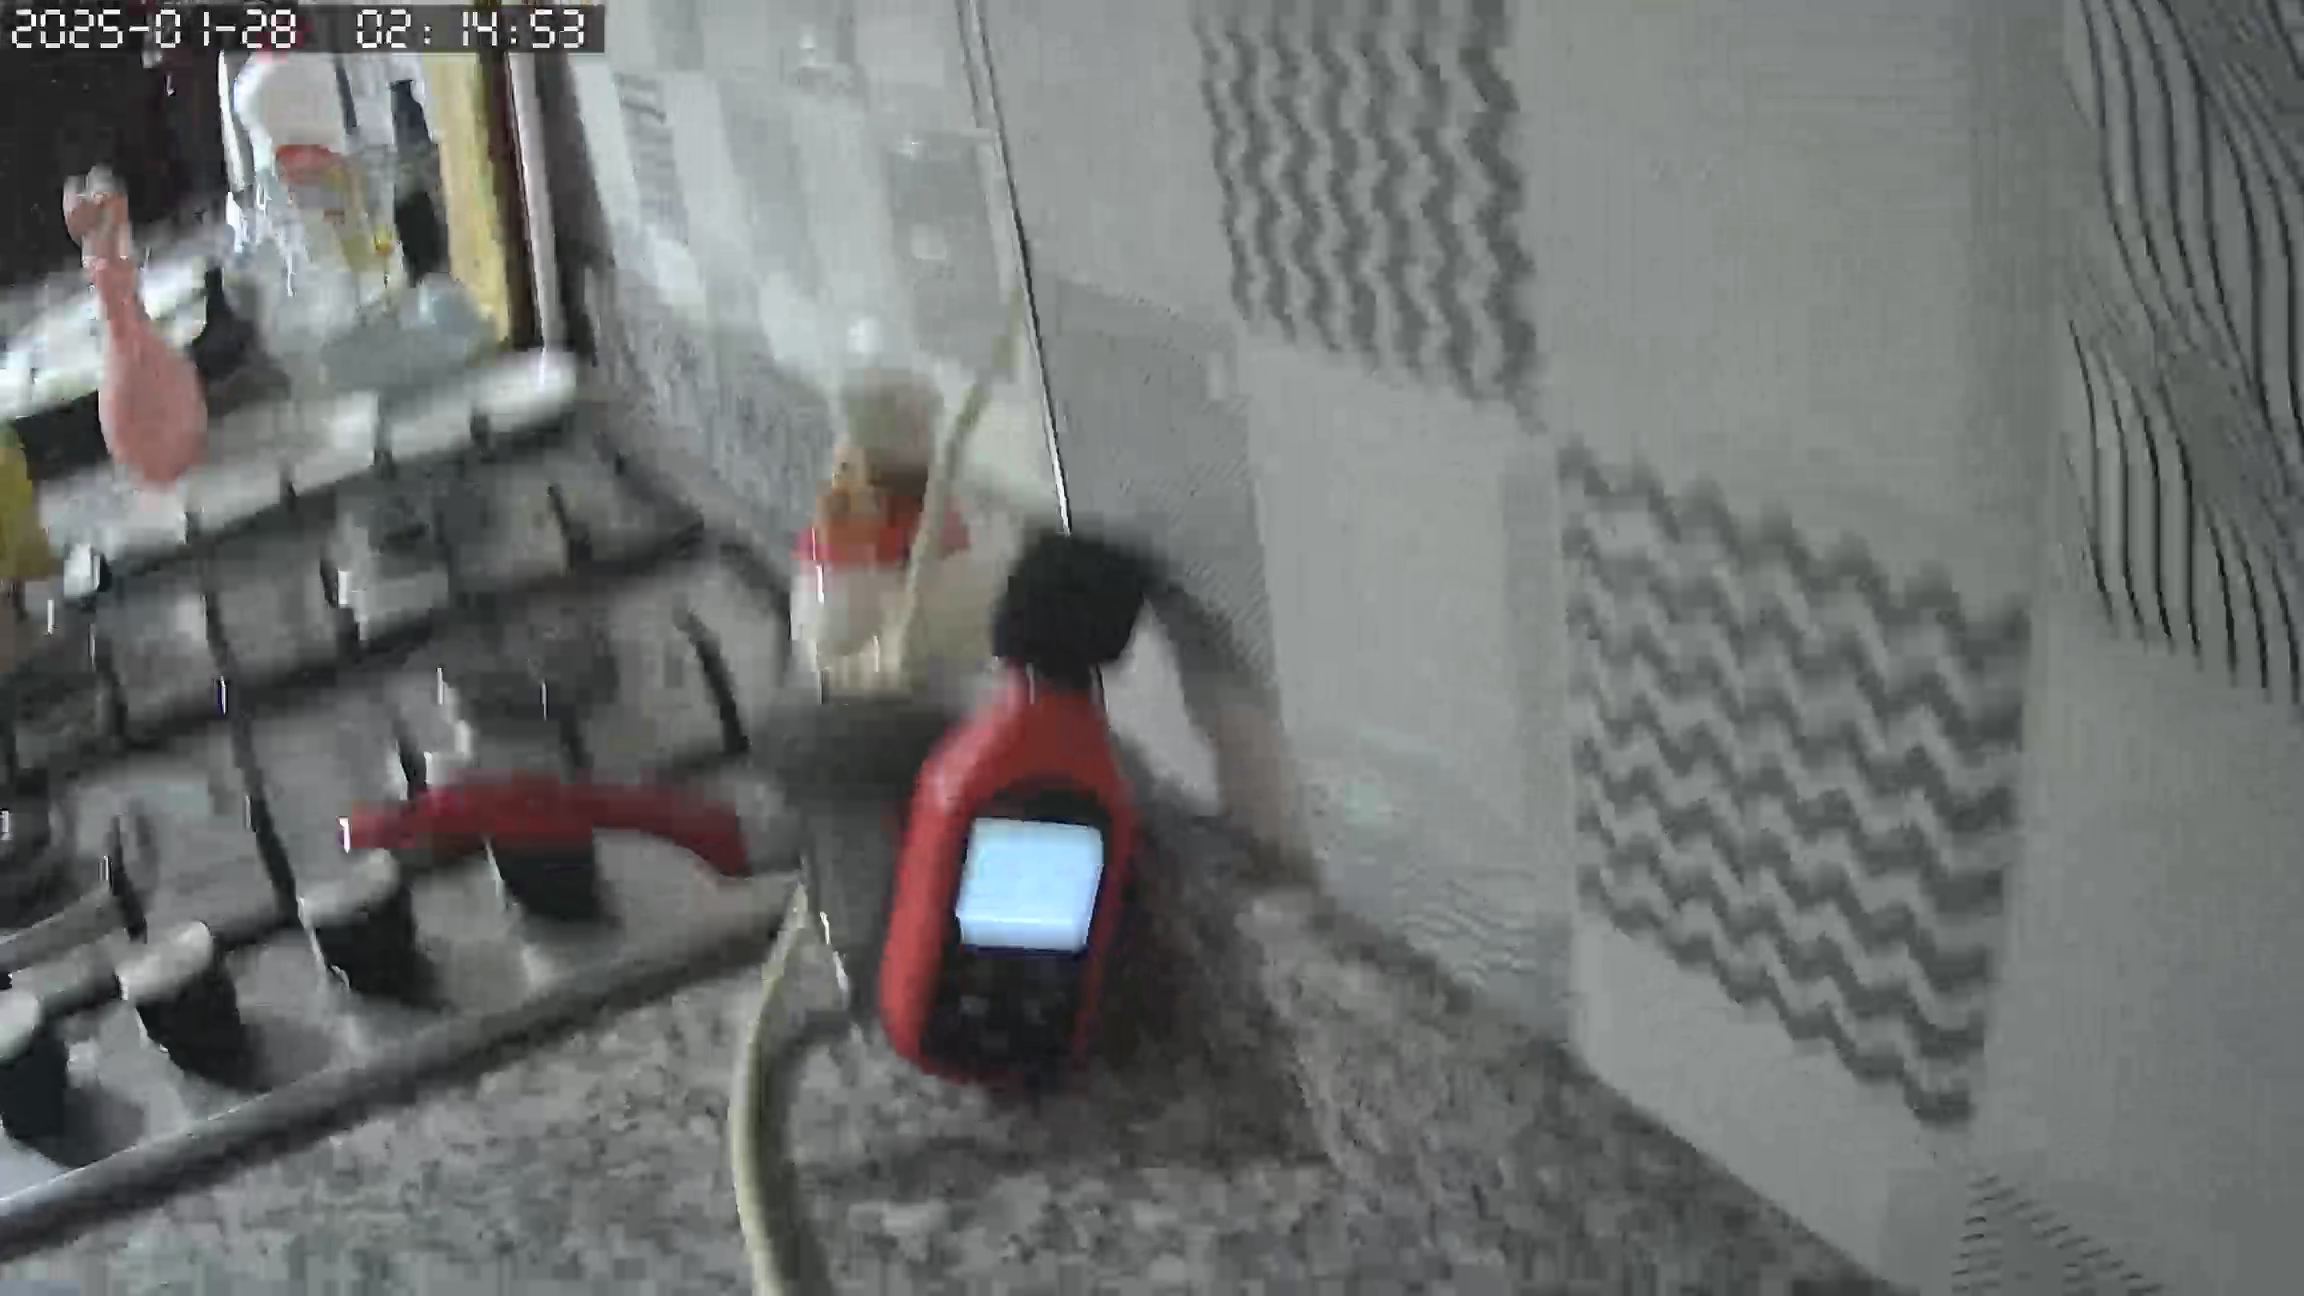screen: (956, 820, 1105, 953)
